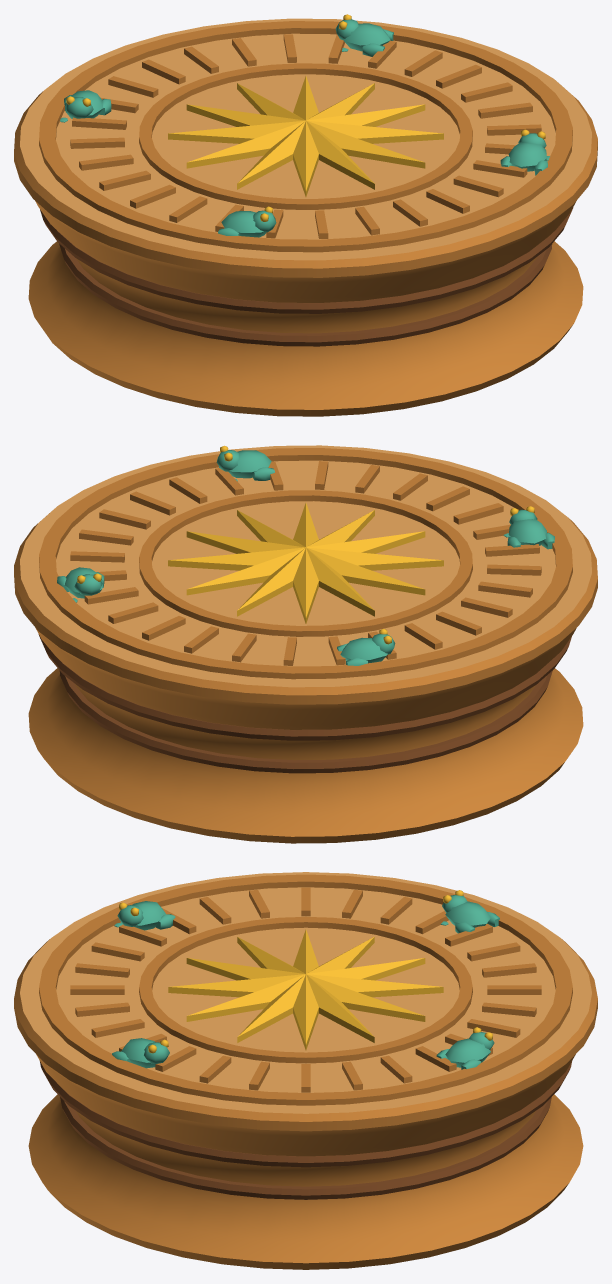
File: drum_spring.glb
3 renders of one model, top to bottom at view 1: azimuth 30°, elevation 25°; view 2: azimuth 150°, elevation 25°; view 3: azimuth 270°, elevation 25°, orthographic.
Parts seen in each view (by area): view 1: drum_spring; view 2: drum_spring; view 3: drum_spring.
Boxes of the visible parts, <box> form: drum_spring: <box>14,14,597,416</box>; drum_spring: <box>14,445,597,843</box>; drum_spring: <box>14,872,597,1269</box>.
Bounding box in the file's own units: 1.4 × 0.508 × 1.4.
